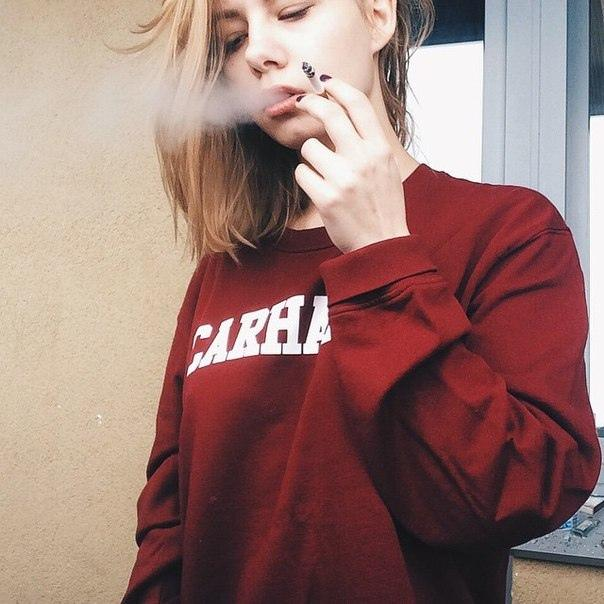cigarette: (302, 61, 329, 100)
